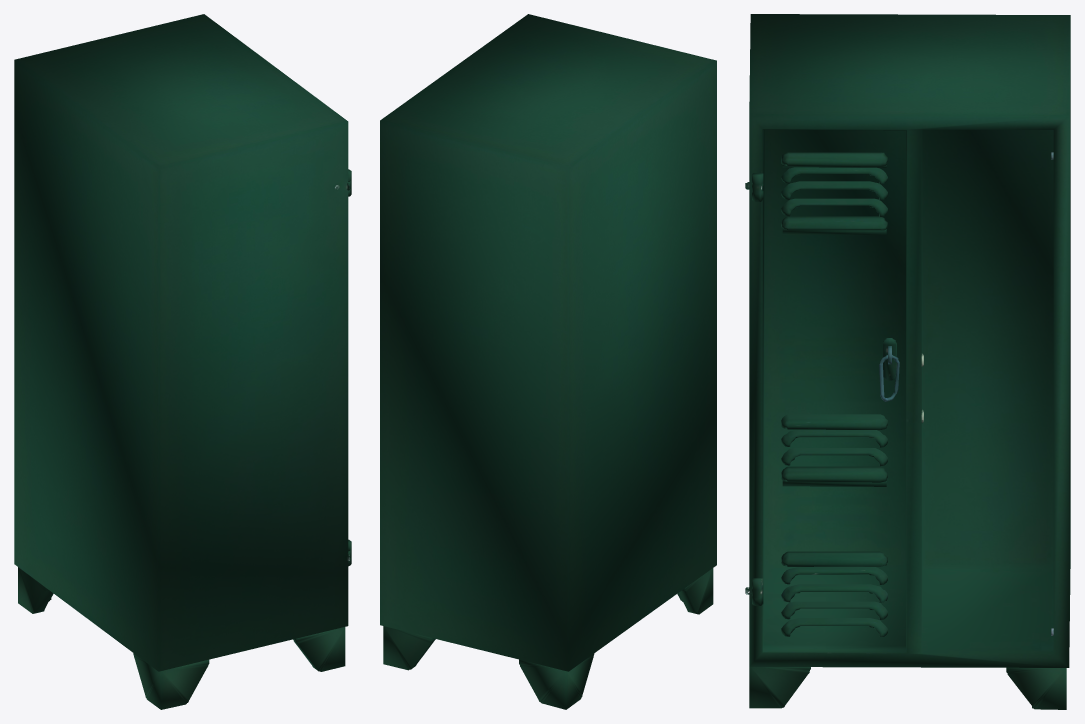
The model's file is locker.glb.
The picture shows the model from 3 angles, left to right: view 1: azimuth 30°, elevation 25°; view 2: azimuth 150°, elevation 25°; view 3: azimuth 270°, elevation 25°; orthographic projection. The views are drawn at different scales.
Parts seen in each view (by area): view 1: tripo_node_54e75b97-f2e2-4262-8ffd-8db9d1d0b44d; view 2: tripo_node_54e75b97-f2e2-4262-8ffd-8db9d1d0b44d; view 3: tripo_node_54e75b97-f2e2-4262-8ffd-8db9d1d0b44d.
Boxes of the visible parts, left/top/right/bottom form: tripo_node_54e75b97-f2e2-4262-8ffd-8db9d1d0b44d: left=14, top=14, right=351, bottom=709; tripo_node_54e75b97-f2e2-4262-8ffd-8db9d1d0b44d: left=380, top=14, right=716, bottom=709; tripo_node_54e75b97-f2e2-4262-8ffd-8db9d1d0b44d: left=745, top=14, right=1070, bottom=709.
Bounding box in the file's own units: 0.3965 × 0.998 × 0.4941.
Materials: 1 (1 with a texture image).
